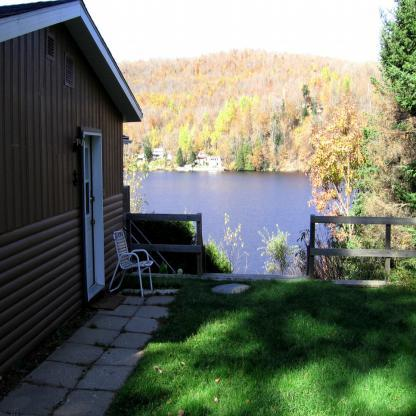door: (83, 148, 94, 284)
